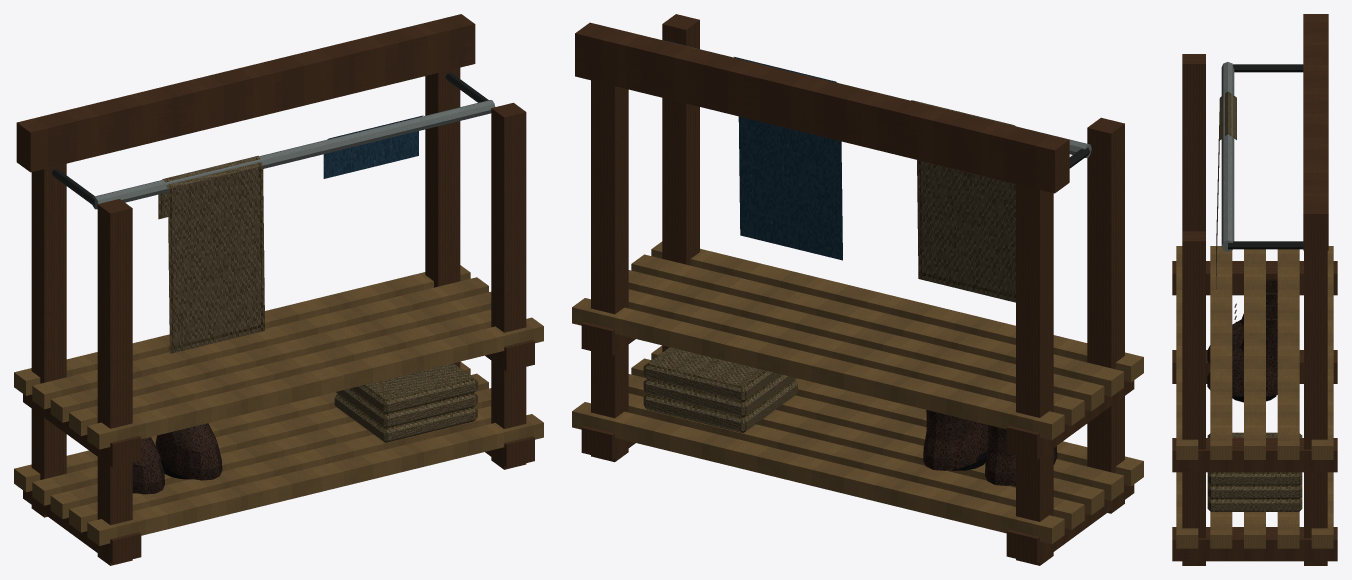
Rendered from level_work_boot_rack.glb.
3 views of the same model, side by side, from view 1: azimuth 30°, elevation 25°; view 2: azimuth 150°, elevation 25°; view 3: azimuth 270°, elevation 25° (orthographic). The views are drawn at different scales.
Parts seen in each view (by area): view 1: level_work_boot_rack; view 2: level_work_boot_rack; view 3: level_work_boot_rack.
Part boxes in pixels (x1,y1,x2,y2): level_work_boot_rack: (14, 14, 543, 565); level_work_boot_rack: (572, 14, 1143, 565); level_work_boot_rack: (1172, 14, 1337, 565).
Bounding box in the file's own units: 1.4 × 1.17 × 0.49.
9 materials, 9 textured.
